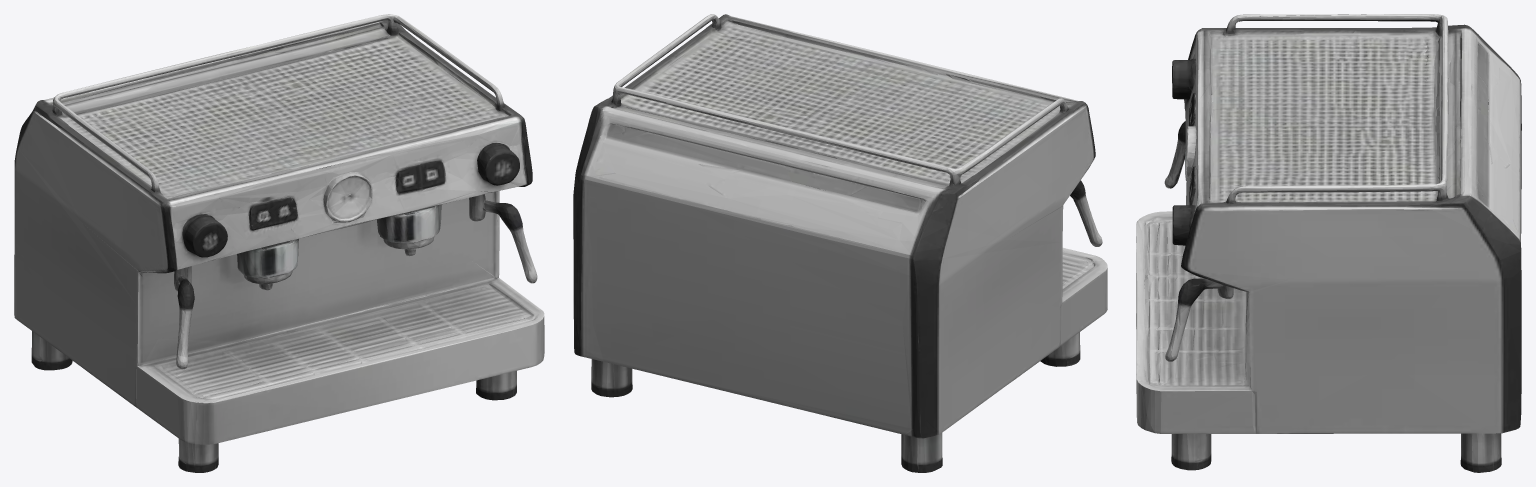
Rendered from hf_espresso.glb.
3 renders of one model, left to right at view 1: azimuth 30°, elevation 25°; view 2: azimuth 150°, elevation 25°; view 3: azimuth 270°, elevation 25°, orthographic.
Parts seen in each view (by area): view 1: geometry_0; view 2: geometry_0; view 3: geometry_0.
Part boxes in pixels (x1=…): geometry_0: x1=14, y1=14, x2=544, y2=472; geometry_0: x1=573, y1=14, x2=1107, y2=472; geometry_0: x1=1136, y1=14, x2=1521, y2=472.
Size of the model in its own units: 0.9924 by 0.7422 by 0.8955.
Materials: 1 (1 with a texture image).
